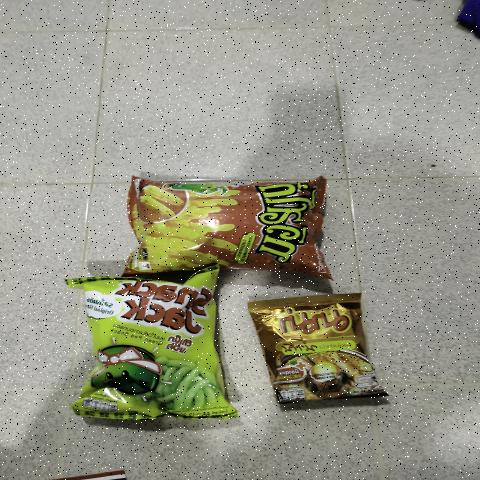mama: (274, 305, 356, 395)
snack_jack: (93, 280, 202, 412)
twisco: (141, 181, 316, 267)
